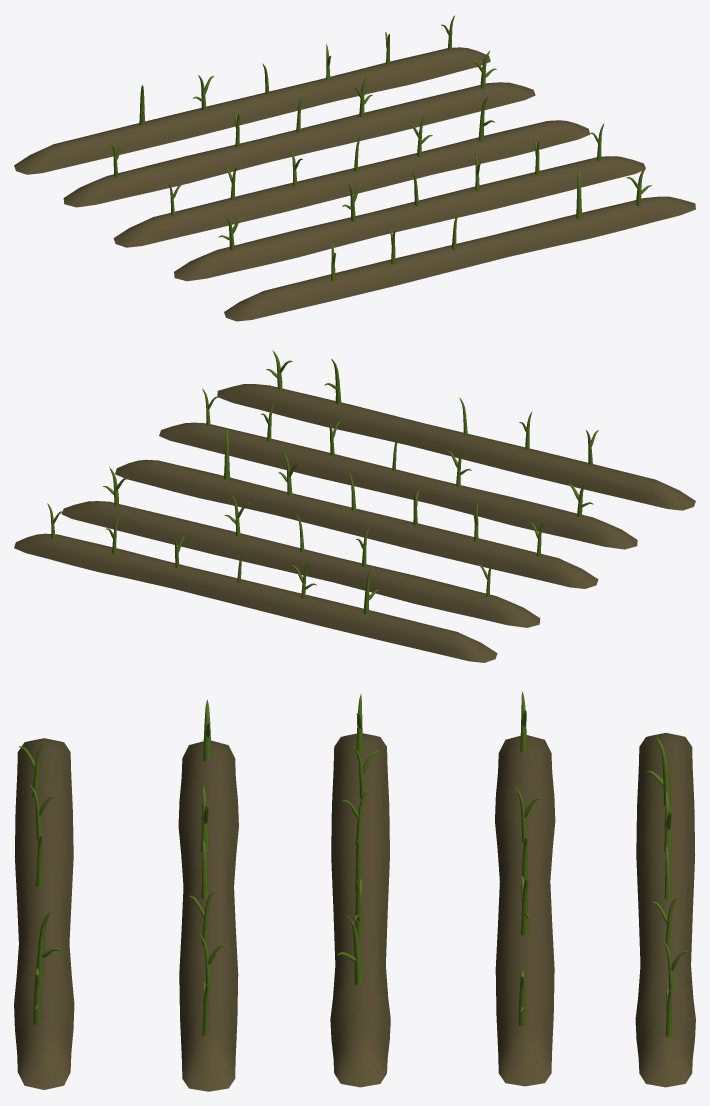
The model's file is Farm_Dirt_Level2.glb.
The picture shows the model from 3 angles, top to bottom: view 1: azimuth 30°, elevation 25°; view 2: azimuth 150°, elevation 25°; view 3: azimuth 270°, elevation 25°; orthographic projection. The views are drawn at different scales.
Parts seen in each view (by area): view 1: Farm_Dirt_Level2; view 2: Farm_Dirt_Level2; view 3: Farm_Dirt_Level2.
Part boxes in pixels (x1,y1,x2,y2): Farm_Dirt_Level2: (14, 15, 695, 321); Farm_Dirt_Level2: (14, 350, 695, 662); Farm_Dirt_Level2: (14, 691, 695, 1091).
Size of the model in its own units: 1.79 by 0.2208 by 1.44.
